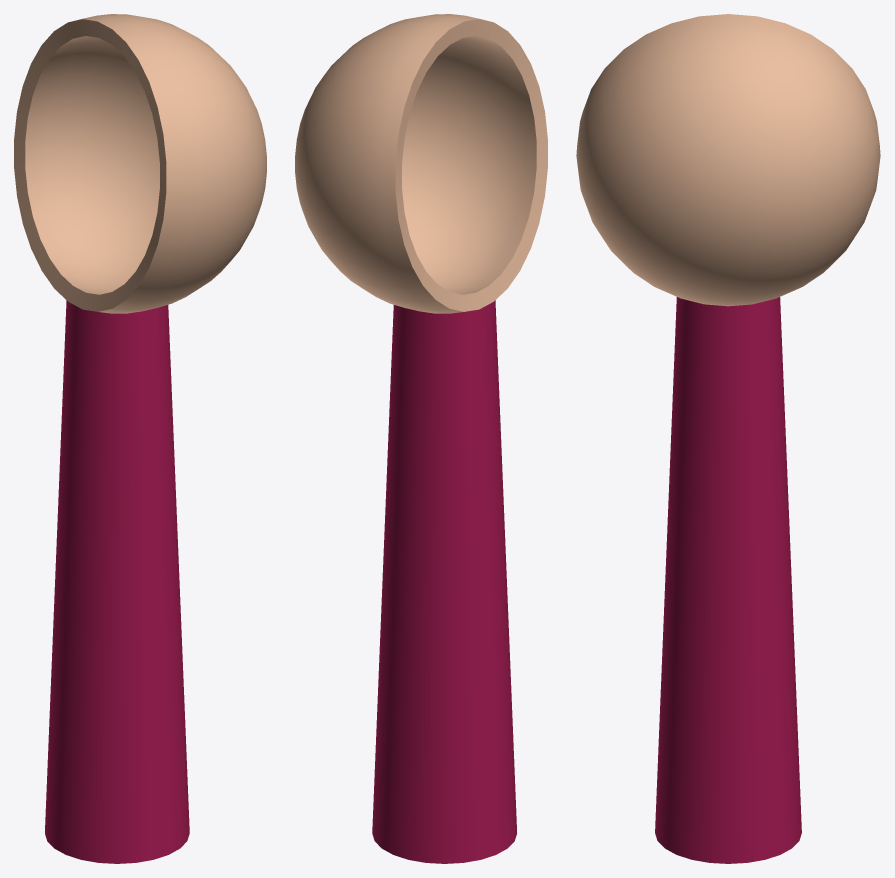
Rendered from Scoop.obj.
The picture shows the model from 3 angles, left to right: view 1: azimuth 30°, elevation 25°; view 2: azimuth 150°, elevation 25°; view 3: azimuth 270°, elevation 25°; orthographic projection.
Parts seen in each view (by area): view 1: Cone001, Sphere002; view 2: Cone001, Sphere002; view 3: Cone001, Sphere002.
Boxes of the visible parts, x1=… form: Cone001: x1=45, y1=300, x2=189, y2=863; Sphere002: x1=14, y1=14, x2=266, y2=313; Cone001: x1=372, y1=300, x2=516, y2=863; Sphere002: x1=295, y1=14, x2=547, y2=313; Cone001: x1=655, y1=297, x2=801, y2=863; Sphere002: x1=576, y1=14, x2=880, y2=306.
Size of the model in its own units: 1.02 by 4.07 by 1.37.
